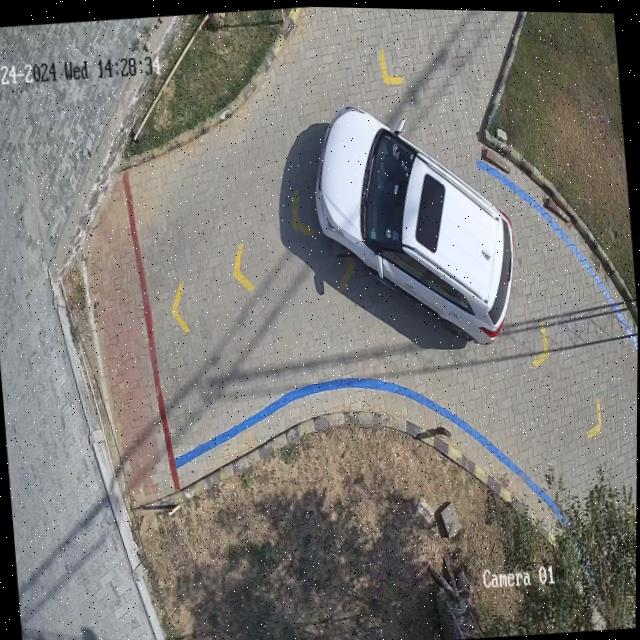car: (315, 104, 514, 341)
